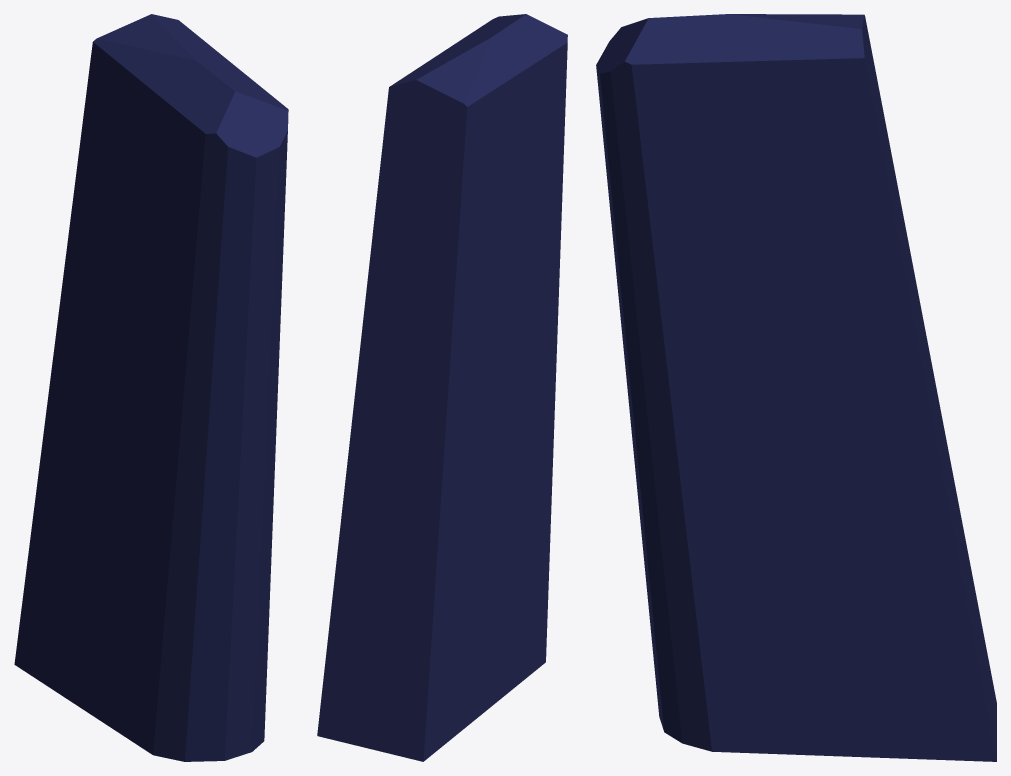
File: weapon_pist_deagle_mag_physics.gltf
3 views of the same model, side by side, from view 1: azimuth 30°, elevation 25°; view 2: azimuth 150°, elevation 25°; view 3: azimuth 270°, elevation 25° (orthographic). The views are drawn at different scales.
Visible parts, largest first — view 1: physics_group_weaponmagazine; view 2: physics_group_weaponmagazine; view 3: physics_group_weaponmagazine.
Boxes of the visible parts, x1,y1,x2,y2 form: physics_group_weaponmagazine: [14, 14, 288, 761]; physics_group_weaponmagazine: [317, 14, 567, 761]; physics_group_weaponmagazine: [596, 14, 996, 761].
Bounding box in the file's own units: 0.0255 × 0.1438 × 0.073.
1 material, 1 textured.
